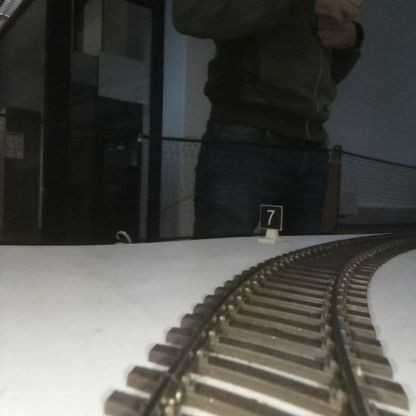black-stop-7: (260, 205, 280, 240)
